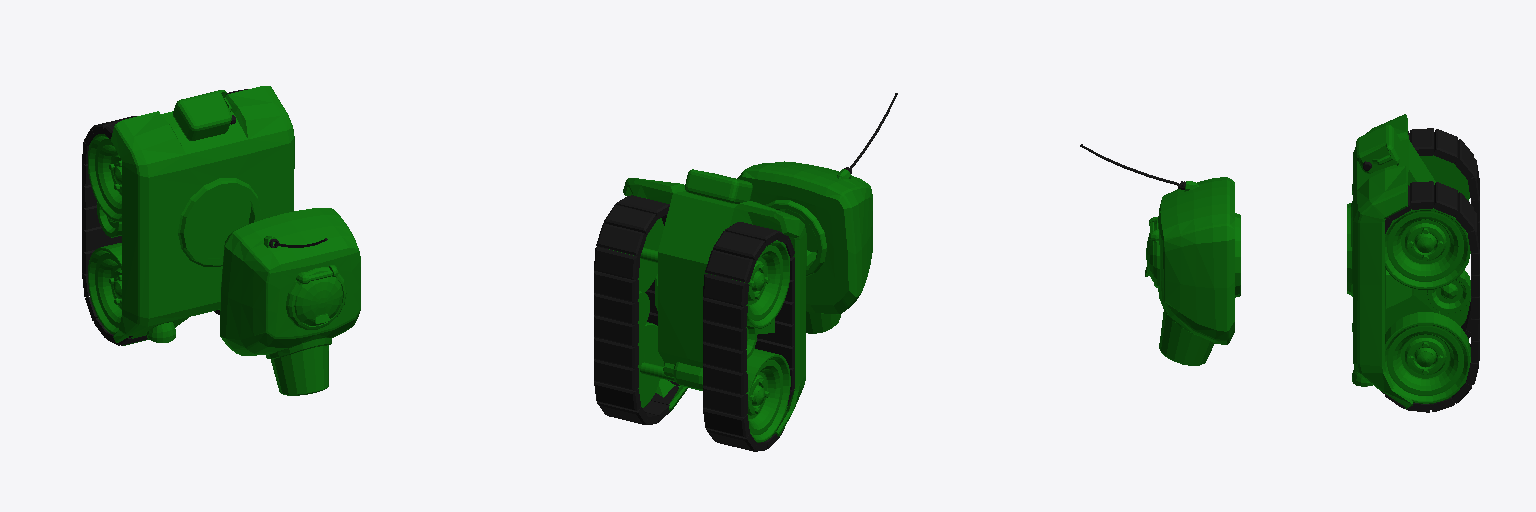
File: Tank.obj
3 renders of one model, left to right at view 1: azimuth 30°, elevation 25°; view 2: azimuth 150°, elevation 25°; view 3: azimuth 270°, elevation 25°, orthographic.
Parts seen in each view (by area): view 1: TankChassis, TankTurret, TankTracksRight; view 2: TankTracksRight, TankChassis, TankTracksLeft, TankTurret; view 3: TankTracksLeft, TankChassis, TankTurret, TankTracksRight.
Boxes of the visible parts, box(x1,y1,x2,y2) form: TankChassis: box(97, 86, 294, 345); TankTurret: box(220, 208, 360, 395); TankTracksRight: box(82, 116, 147, 345); TankTracksRight: box(703, 222, 794, 451); TankChassis: box(623, 169, 806, 436); TankTracksLeft: box(594, 195, 679, 424); TankTurret: box(737, 93, 897, 333); TankTracksLeft: box(1381, 181, 1479, 412); TankChassis: box(1347, 114, 1470, 408); TankTurret: box(1080, 144, 1240, 365); TankTracksRight: box(1408, 128, 1479, 338).
Bounding box in the file's own units: 170 × 238 × 357.